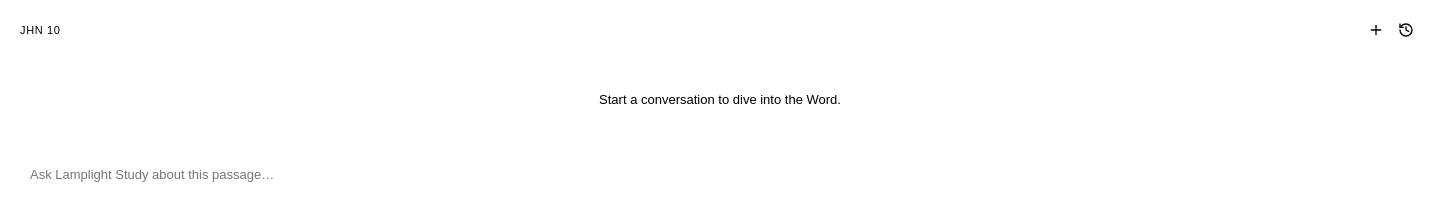
LamplightStudyPanel history timestamps keep ticking while open › advances the relative timestamp on an interval while the panel stays open
The width and height of the screenshot is (1440, 199).
Click the button named "history".
click(1406, 30)  # box [1392,16,1420,44]
Wait 120000 ms
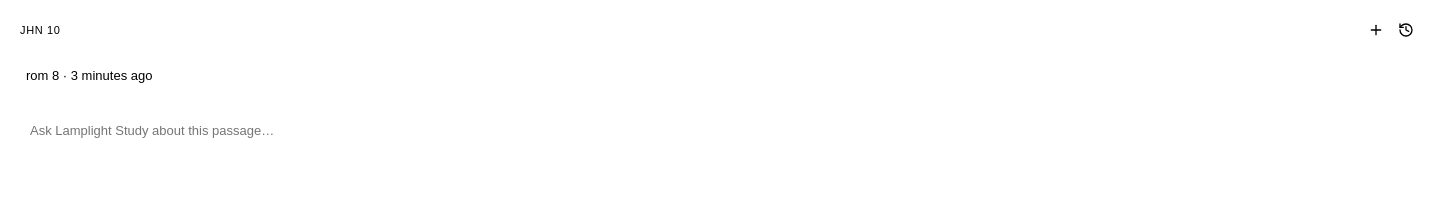
Expected: the button "rom 8 · 3 minutes ago" is shown, [16,60,1424,91]
